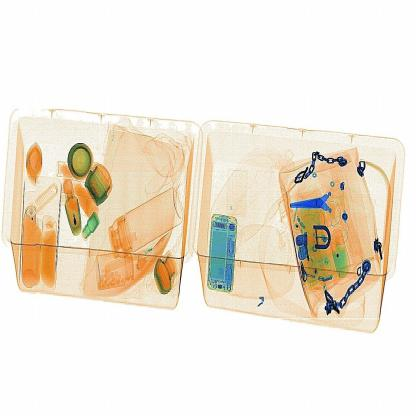gun: (286, 175, 358, 231)
